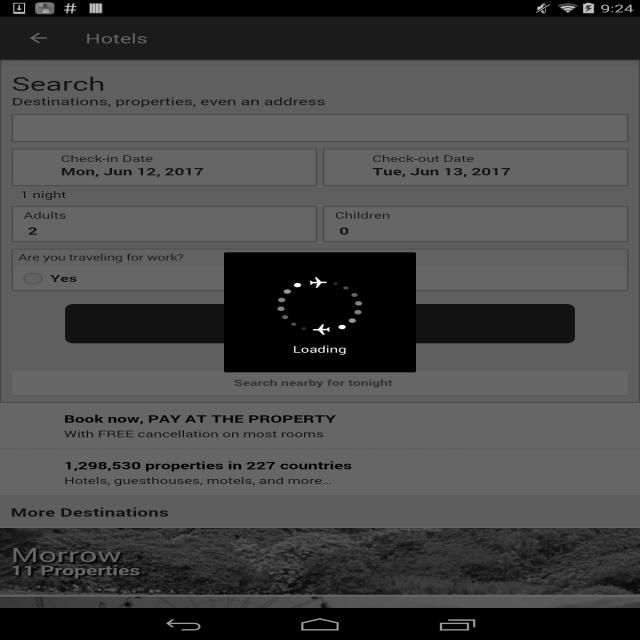Button: (65, 304, 576, 343), (12, 371, 628, 395), (23, 221, 446, 236), (335, 221, 640, 236), (588, 114, 628, 142)
EditText: (12, 114, 628, 142)
ImageButton: (9, 17, 68, 59)
RadioButton: (13, 229, 625, 290), (13, 229, 319, 290)
TextView: (85, 29, 148, 47)
